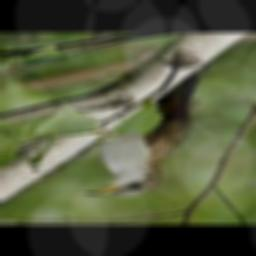Cuckoo: (85, 62, 210, 197)
